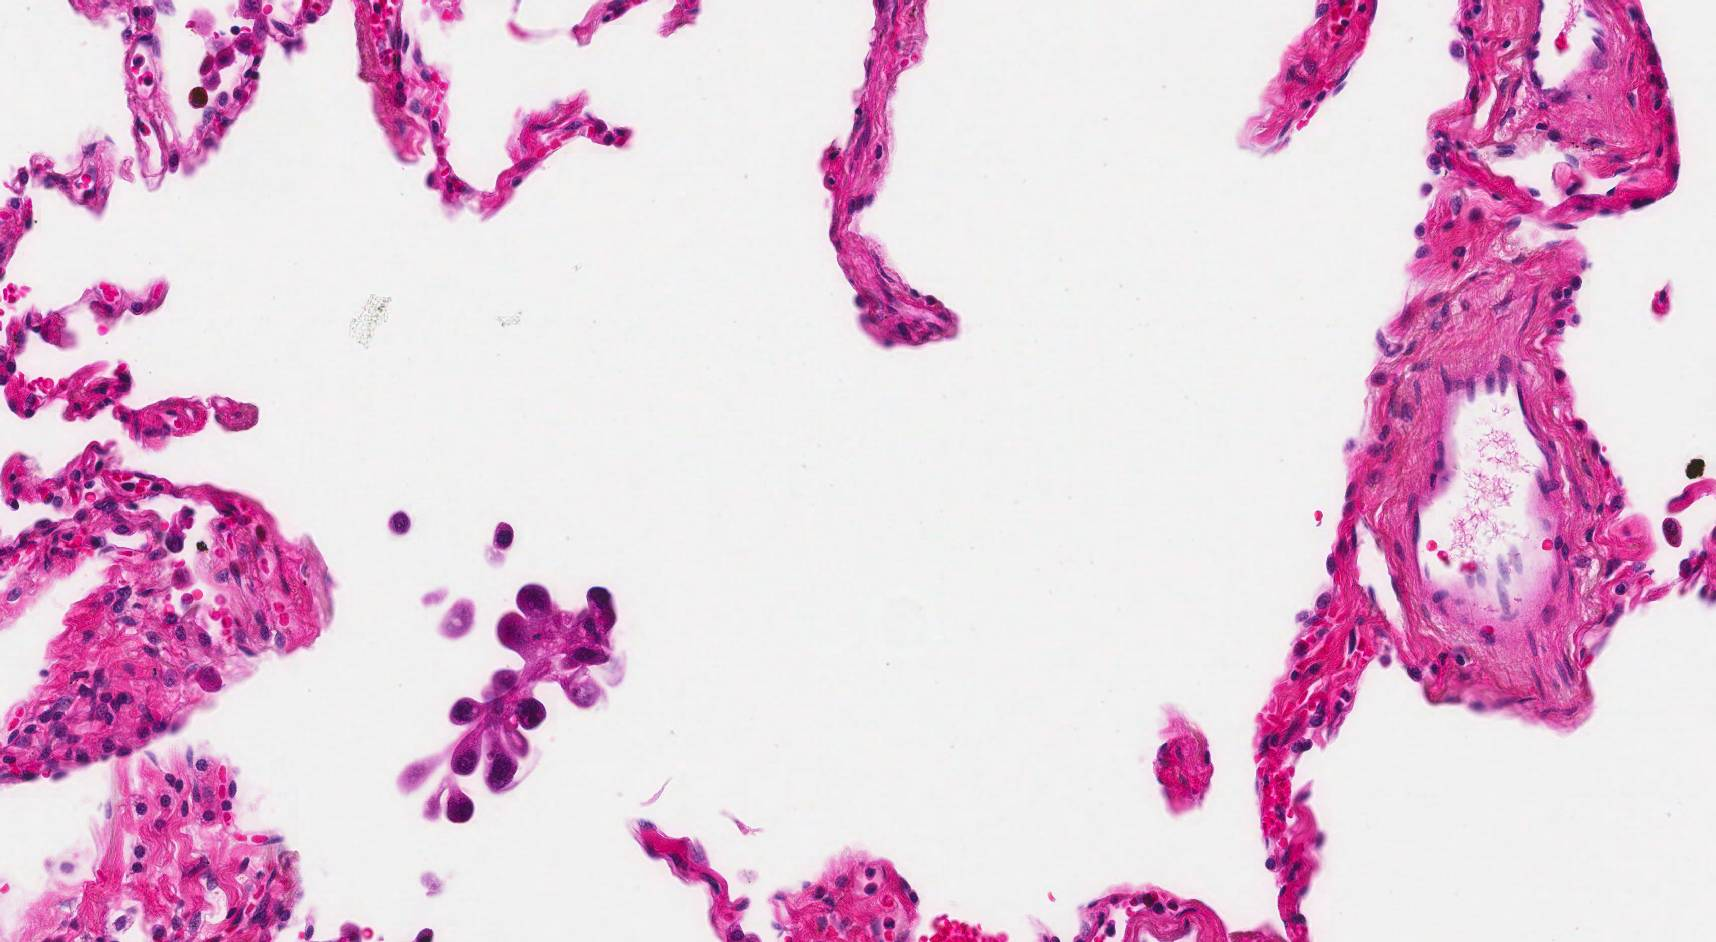stas: (395, 584, 627, 827)
